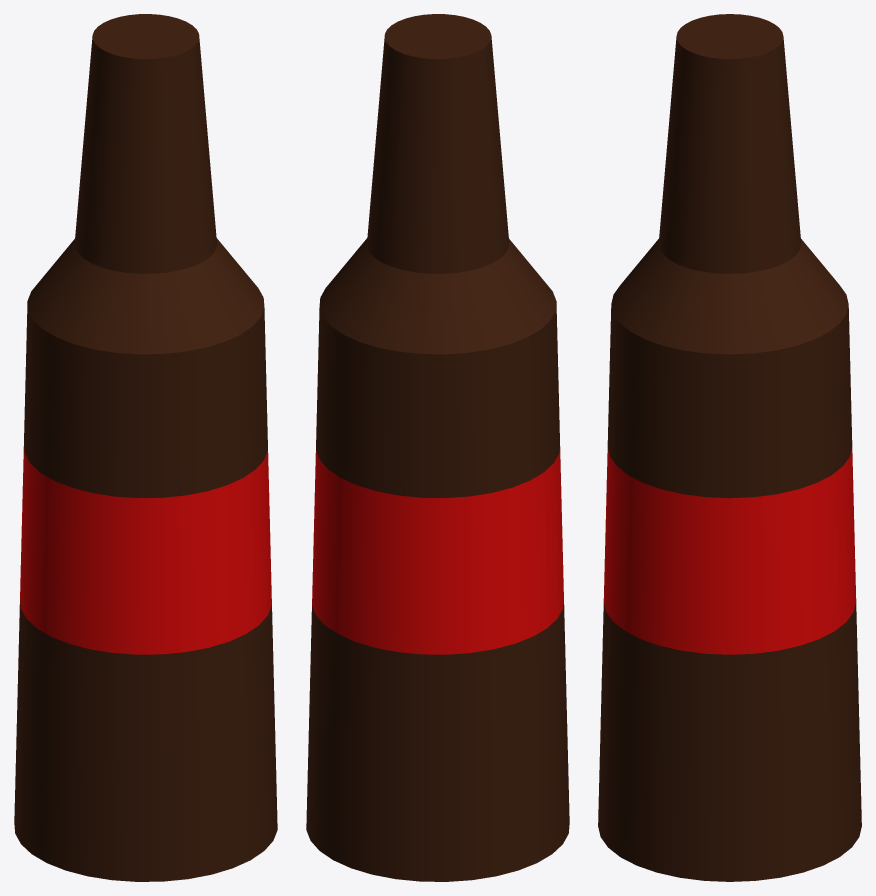
Rendered from beer.fbx.
3 views of the same model, side by side, from view 1: azimuth 30°, elevation 25°; view 2: azimuth 150°, elevation 25°; view 3: azimuth 270°, elevation 25° (orthographic).
Parts seen in each view (by area): view 1: Cylinder; view 2: Cylinder; view 3: Cylinder.
Part boxes in pixels (x1,y1,x2,y2): Cylinder: (14, 14, 277, 881); Cylinder: (306, 14, 569, 881); Cylinder: (598, 14, 861, 881).
Size of the model in its own units: 200 by 660 by 200.
